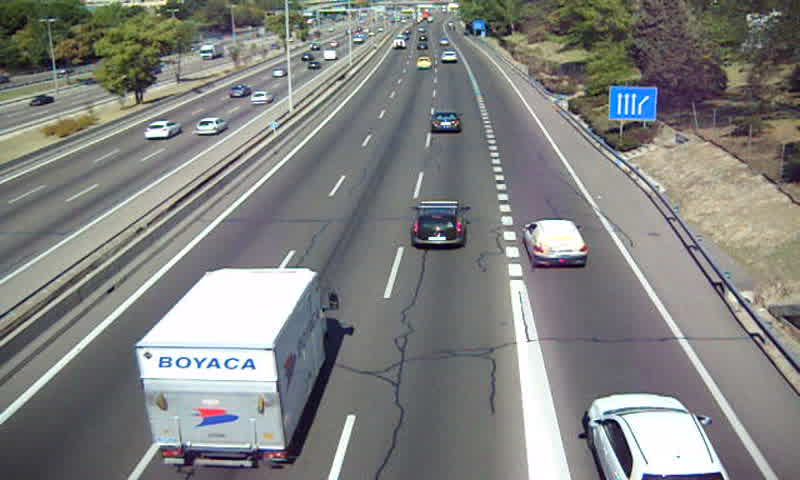car: (589, 395, 730, 480), (522, 219, 588, 267), (411, 200, 465, 247), (429, 110, 461, 132), (415, 56, 432, 72), (440, 50, 458, 63)
small-truck: (135, 267, 326, 461)
